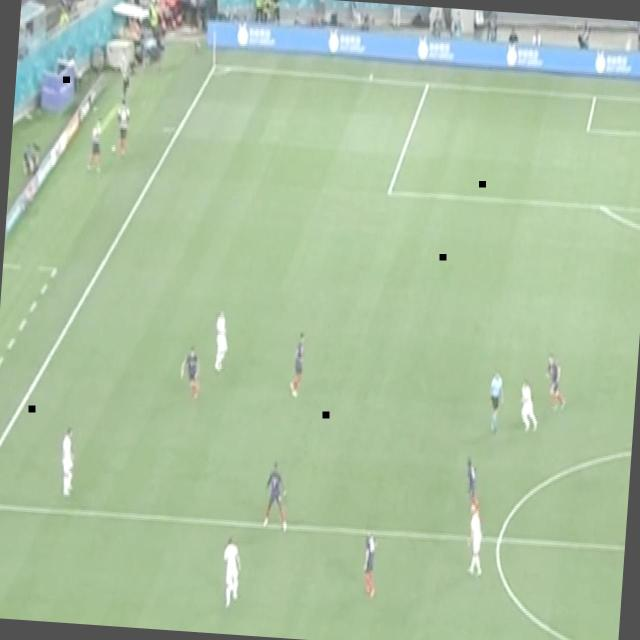ball: (111, 144, 117, 154)
player-white: (262, 457, 292, 537), (218, 532, 246, 612), (464, 502, 488, 580), (515, 374, 542, 435), (542, 352, 569, 413), (359, 526, 381, 600), (484, 369, 508, 436), (57, 426, 79, 498), (288, 327, 308, 400), (178, 343, 203, 401), (211, 306, 231, 376), (461, 450, 483, 508)
